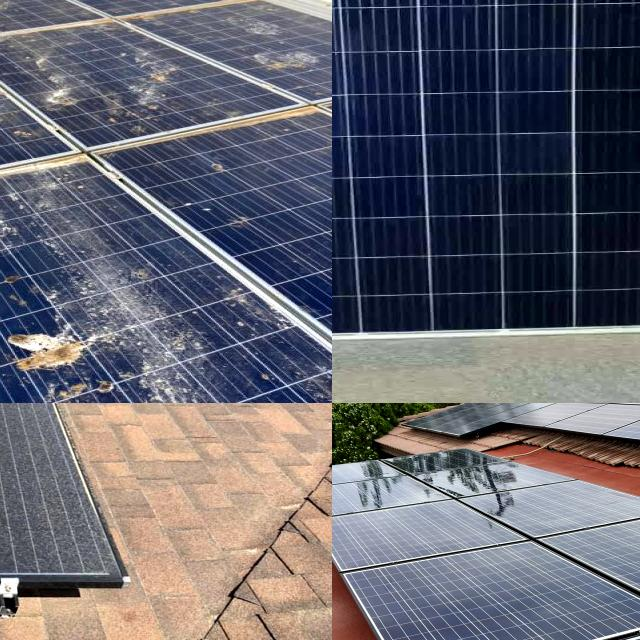bird: (0, 318, 124, 381), (242, 18, 332, 77), (110, 38, 178, 116), (28, 72, 102, 122), (0, 55, 39, 129), (278, 351, 332, 403), (0, 110, 36, 156)
crack: (332, 0, 640, 335), (332, 546, 640, 640), (509, 479, 640, 640)
dust: (0, 467, 89, 567), (0, 466, 73, 570), (0, 403, 76, 455), (0, 403, 54, 468), (0, 403, 132, 429), (238, 403, 332, 435), (120, 403, 197, 425), (0, 403, 33, 434), (0, 403, 46, 425), (0, 403, 28, 433), (0, 403, 49, 418), (0, 403, 28, 429)
